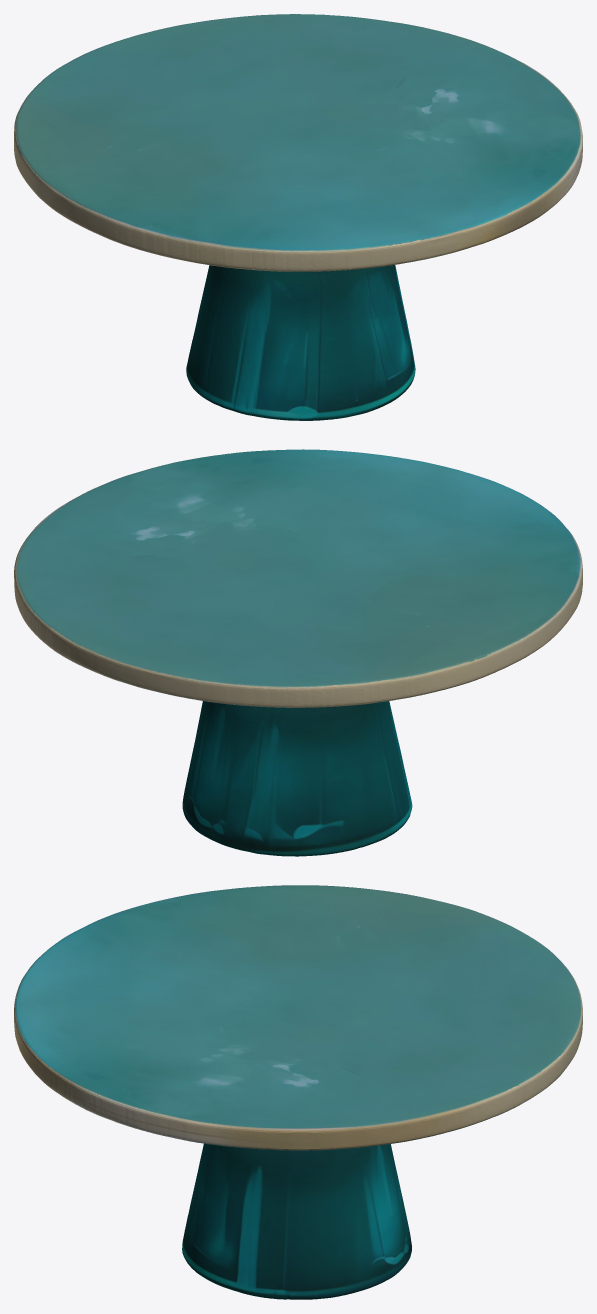
The model's file is c10_coffeetable_s0.glb.
3 renders of one model, top to bottom at view 1: azimuth 30°, elevation 25°; view 2: azimuth 150°, elevation 25°; view 3: azimuth 270°, elevation 25°, orthographic.
Visible parts, largest first — view 1: textured.obj; view 2: textured.obj; view 3: textured.obj.
Part boxes in pixels (bbox=[...]): textured.obj: bbox=[14, 14, 582, 420]; textured.obj: bbox=[14, 449, 582, 856]; textured.obj: bbox=[14, 885, 582, 1299].
Bounding box in the file's own units: 1.99 × 0.9562 × 1.99.
1 material, 1 textured.
